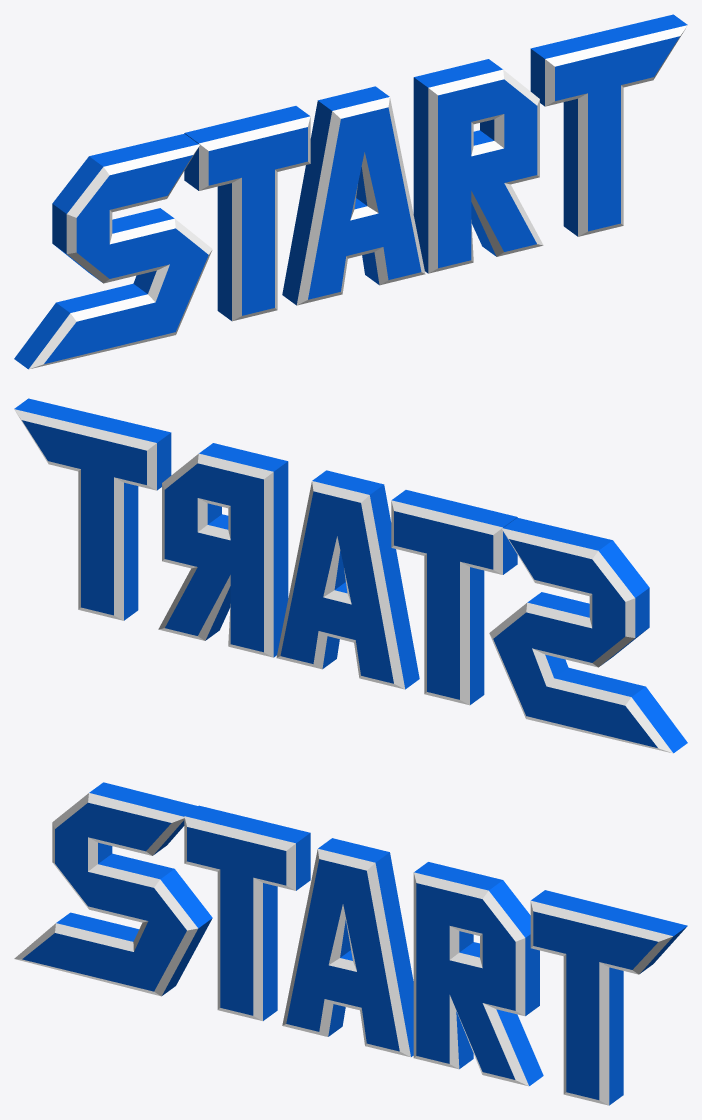
Rendered from start.fbx.
3 renders of one model, top to bottom at view 1: azimuth 30°, elevation 25°; view 2: azimuth 150°, elevation 25°; view 3: azimuth 330°, elevation 25°, orthographic.
Parts seen in each view (by area): view 1: start; view 2: start; view 3: start.
Part boxes in pixels (x1,y1,x2,y2): start: (14,14,687,369); start: (14,398,687,753); start: (14,782,687,1105).
Bounding box in the file's own units: 527 × 142 × 30.
